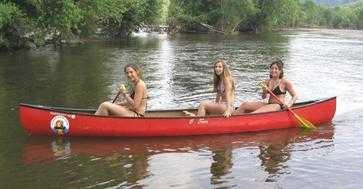kayak: (19, 98, 345, 139)
